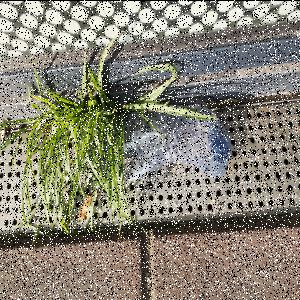Plastic-bottle: (126, 101, 233, 182)
